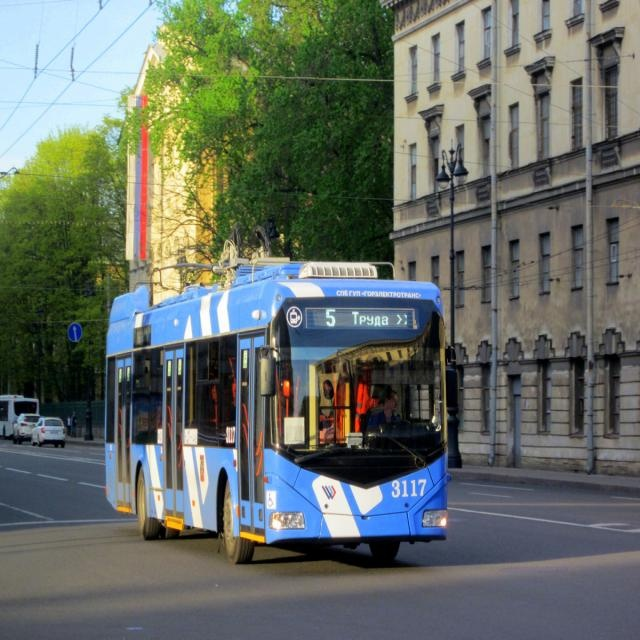Bus: (101, 269, 458, 576)
